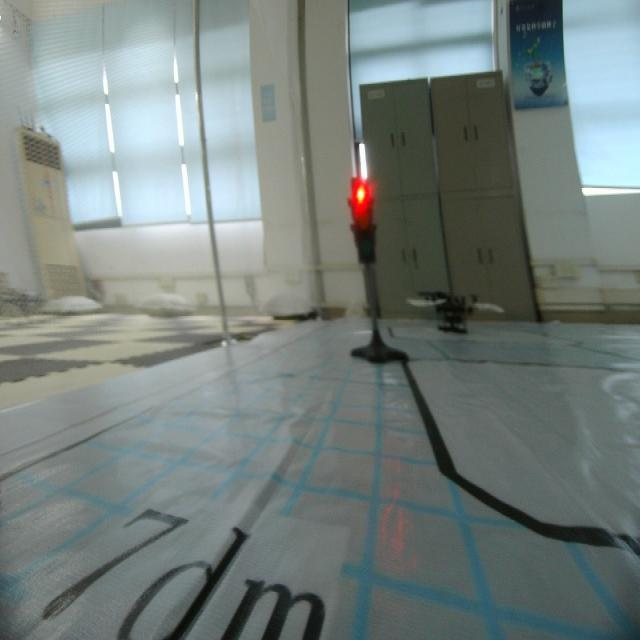red: (345, 172, 379, 267)
